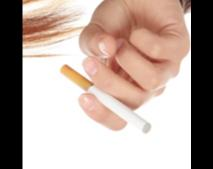Cigarette: (59, 63, 152, 134)
